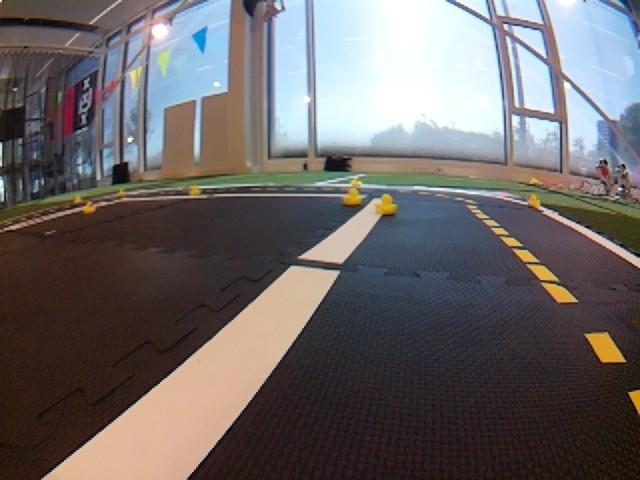Duckies: (373, 196, 397, 215), (343, 189, 363, 204), (527, 195, 542, 207), (83, 202, 97, 213), (189, 186, 201, 195), (351, 178, 362, 185), (73, 197, 82, 204), (118, 188, 126, 195)
